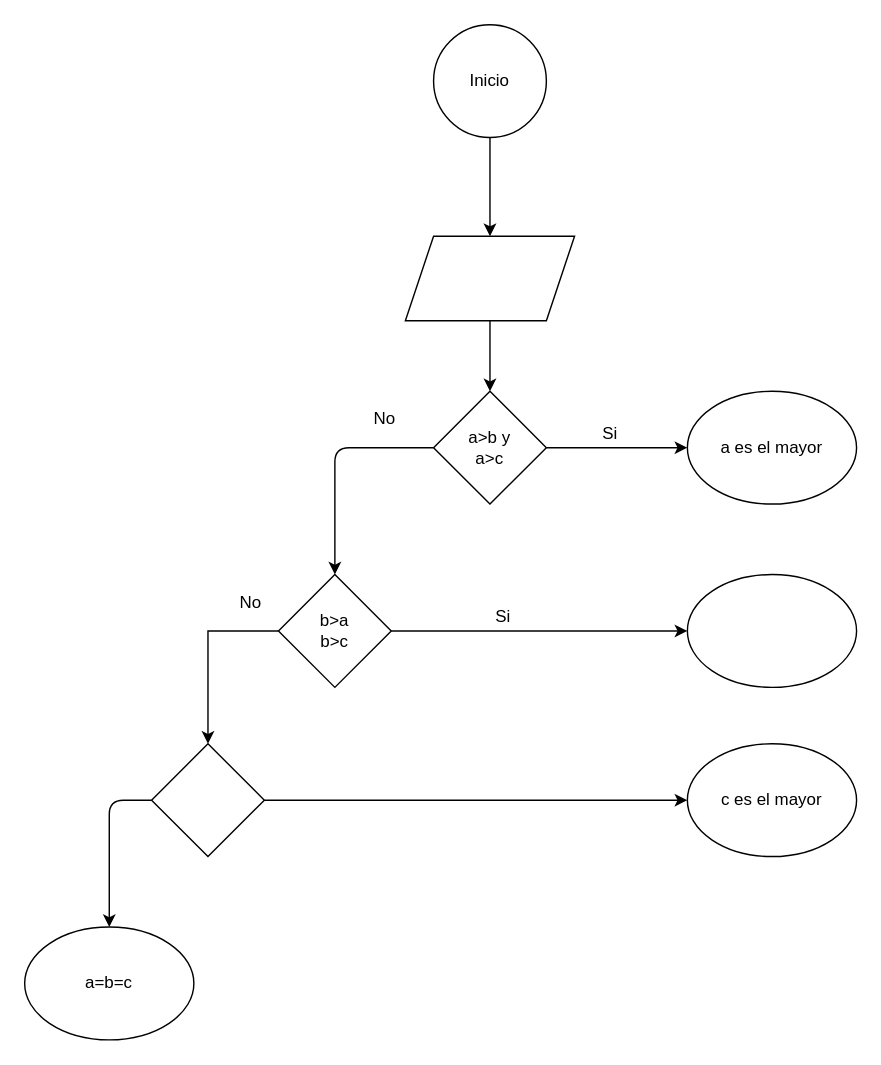
This 881x1065 diagram has some shape labels left out. Each missing label, with the centre of its shape:
b es el mayor: (x=771, y=630)
c>a c>b: (x=207, y=799)
Numero a, b, c: (x=489, y=278)
